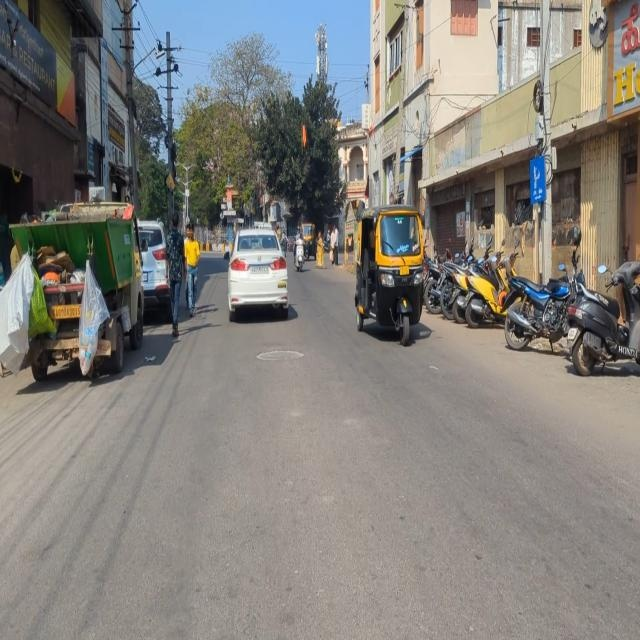bien_nguy_hiem: (528, 153, 548, 205)
